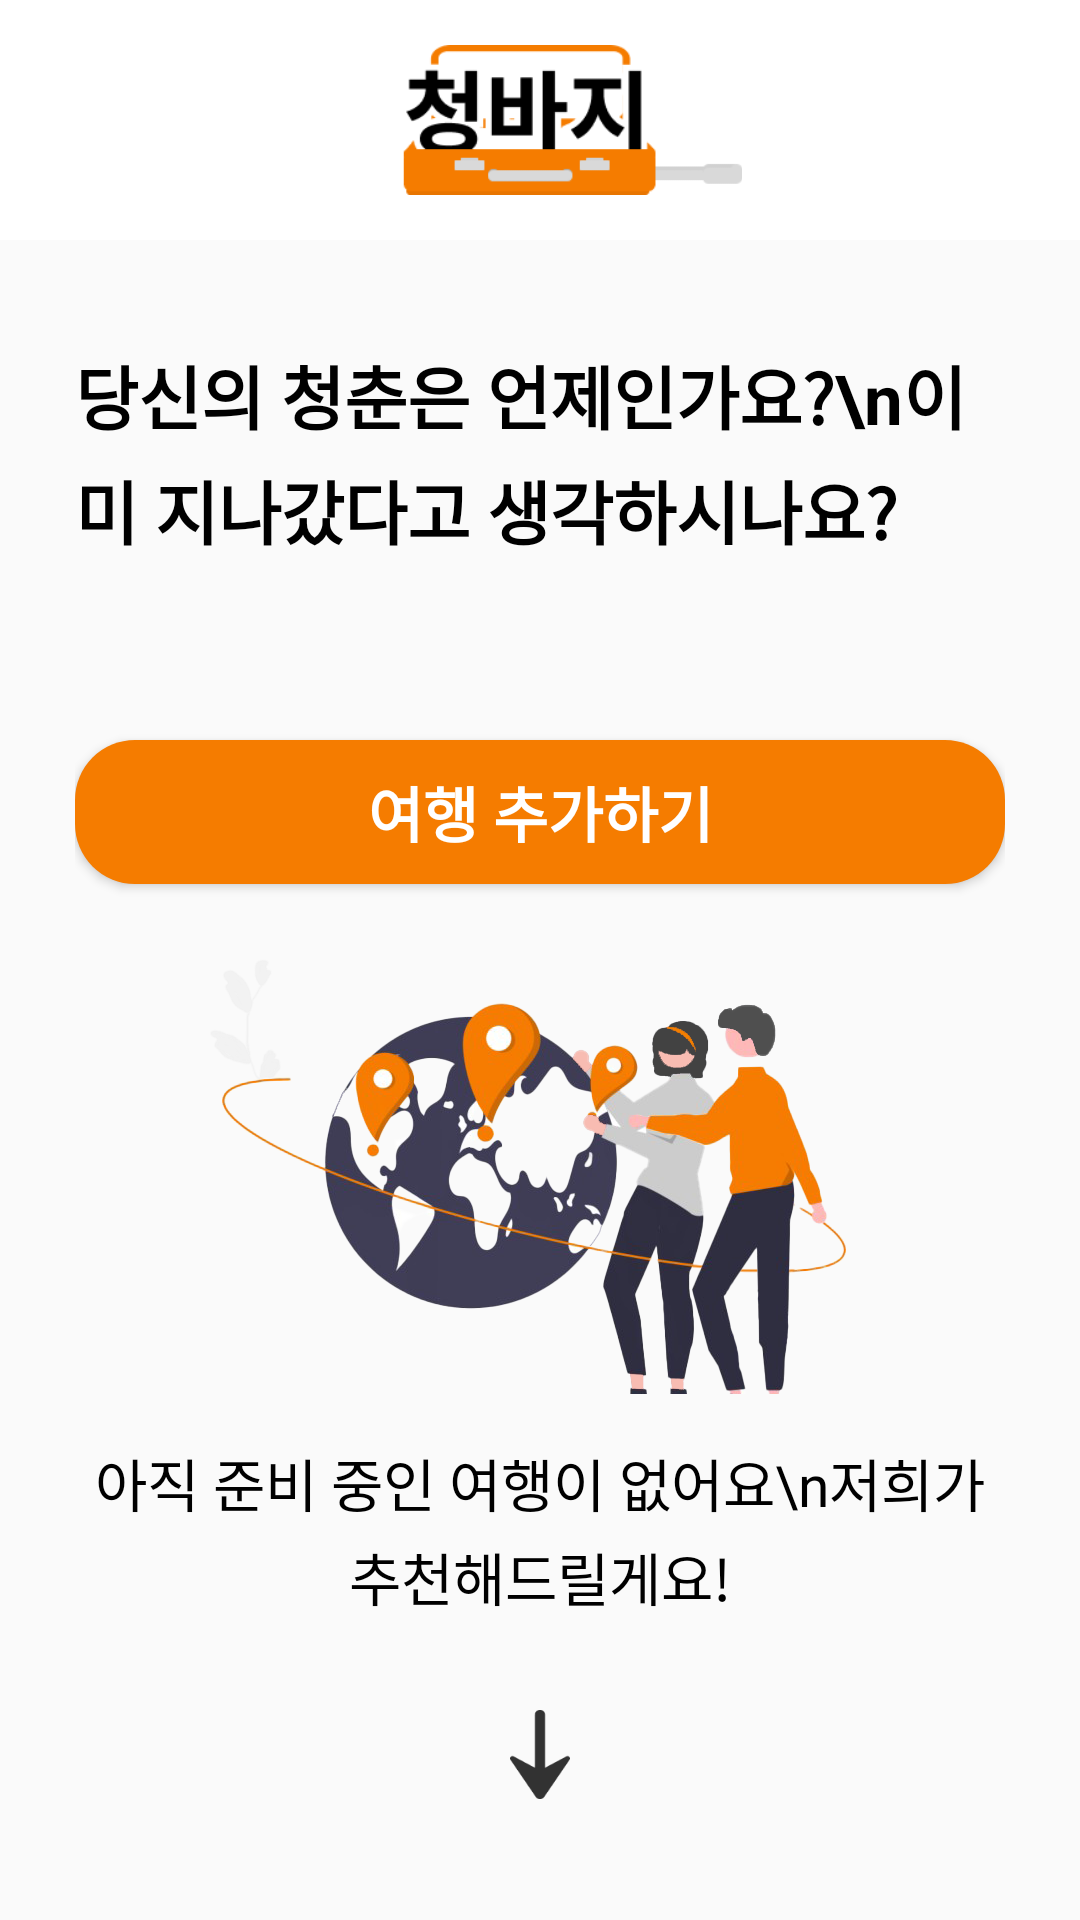

Screen size 1080w x 1920h. Icon name, then its center in pixels as (x=x, y=y):
recommend arrow: (x=540, y=1754)
